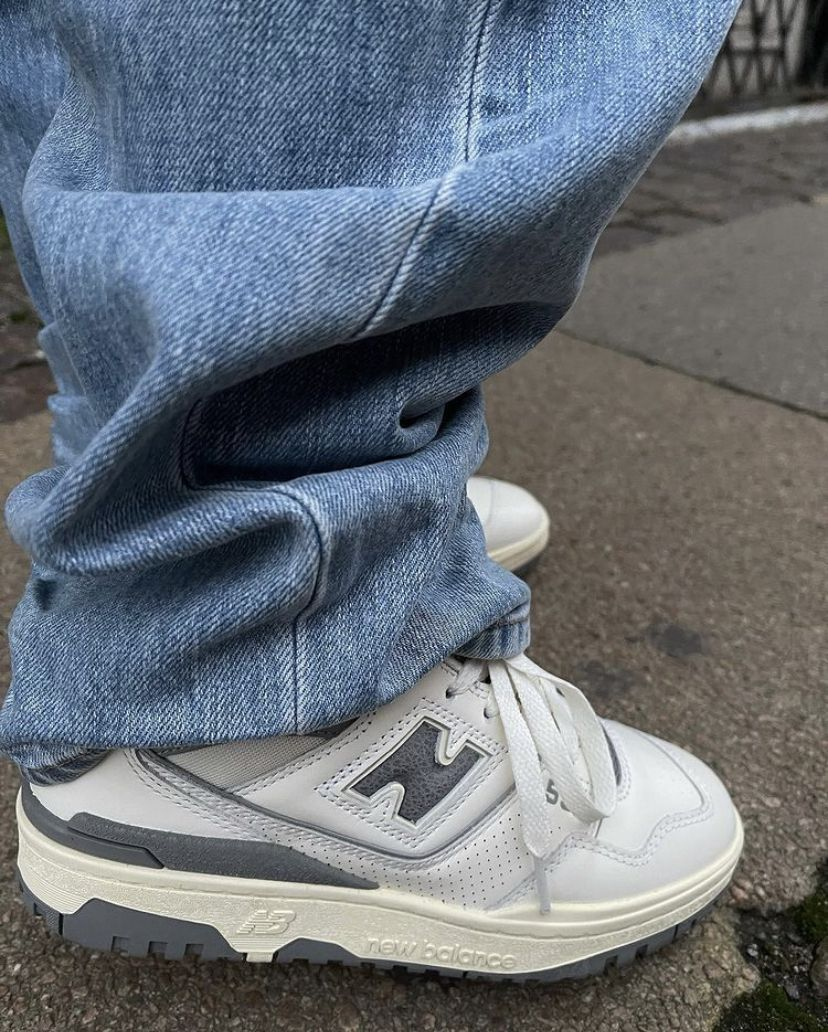new_balance_550_grey: (15, 654, 746, 986)
